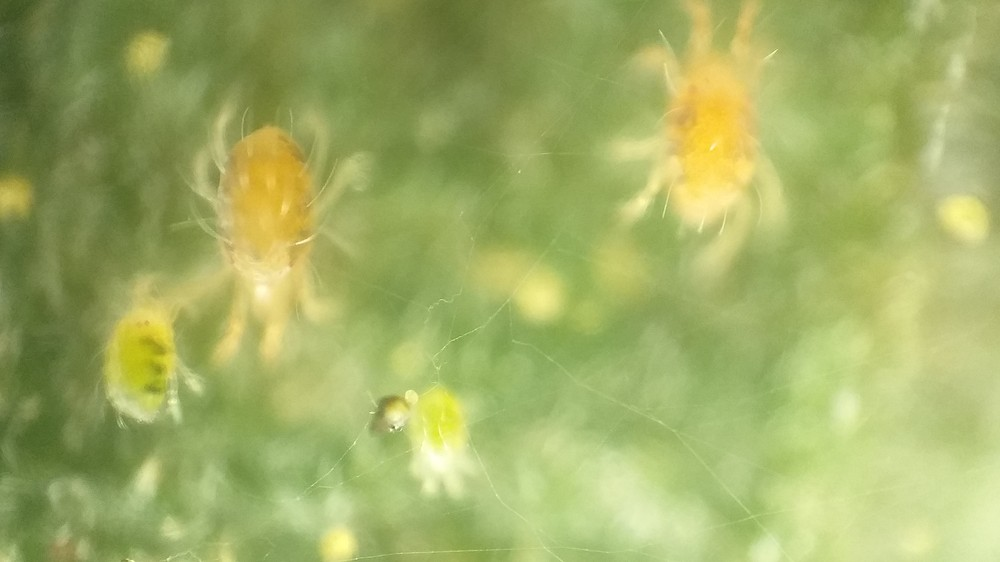Aracnido Rojo: (158, 93, 379, 372), (624, 3, 800, 248), (82, 278, 226, 468)
